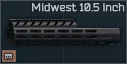MPX Midwest Industries 10.5 inch M-LOK handguard: (0, 0, 127, 64)
